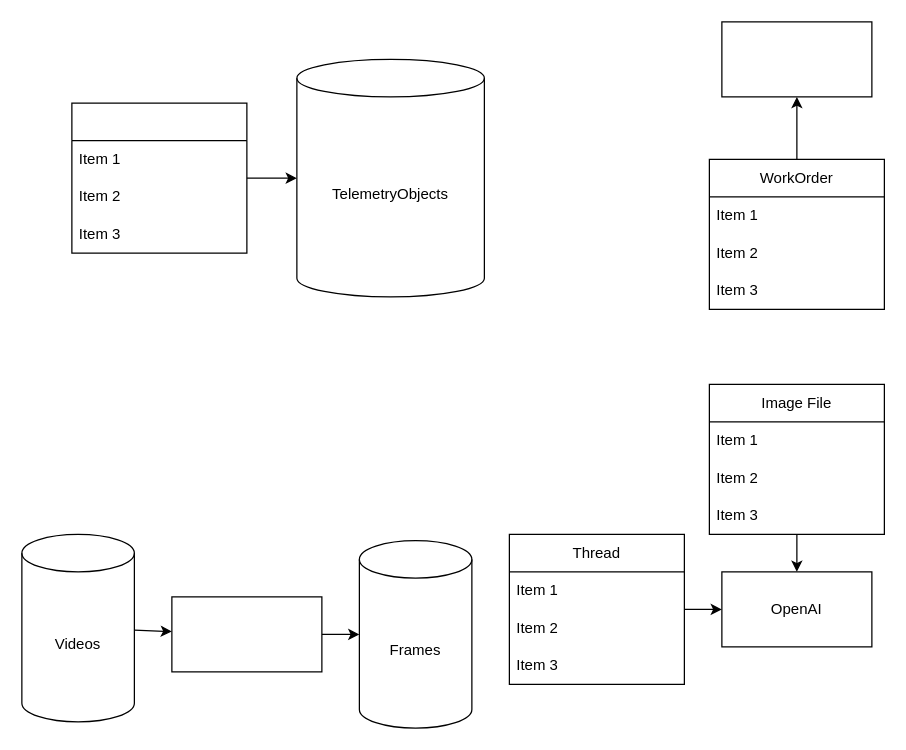
The diagram is 906 pixels wide and 750 high, and some of its shapes have lost their labels. The shapes that lost their labels are listed below. From the top down, each one's box as (x1, y1, x2, y2) in pixels, then its label:
(721, 21, 872, 97): Salesforce
(71, 102, 247, 253): TelemetryObject
(171, 596, 322, 672): Processor
